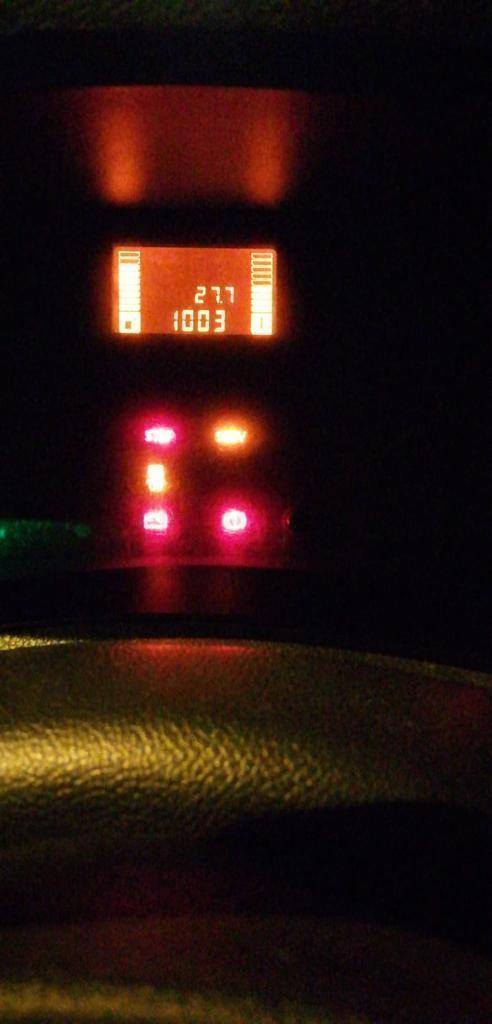,: (219, 300, 223, 304)
0: (181, 309, 194, 332), (197, 309, 209, 332)
1: (172, 309, 178, 332)
2: (194, 285, 205, 303)
3: (213, 309, 225, 332)
7: (224, 285, 234, 304), (210, 286, 220, 304)
odometer: (109, 244, 278, 337)
